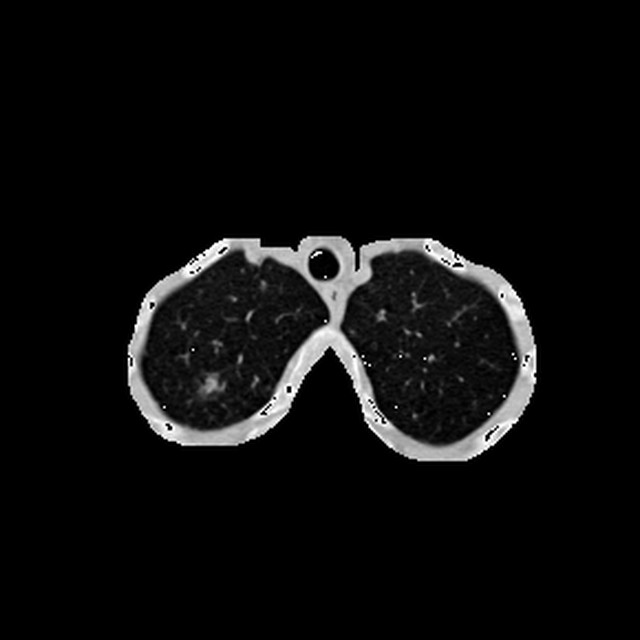PN: (199, 375, 216, 393)
